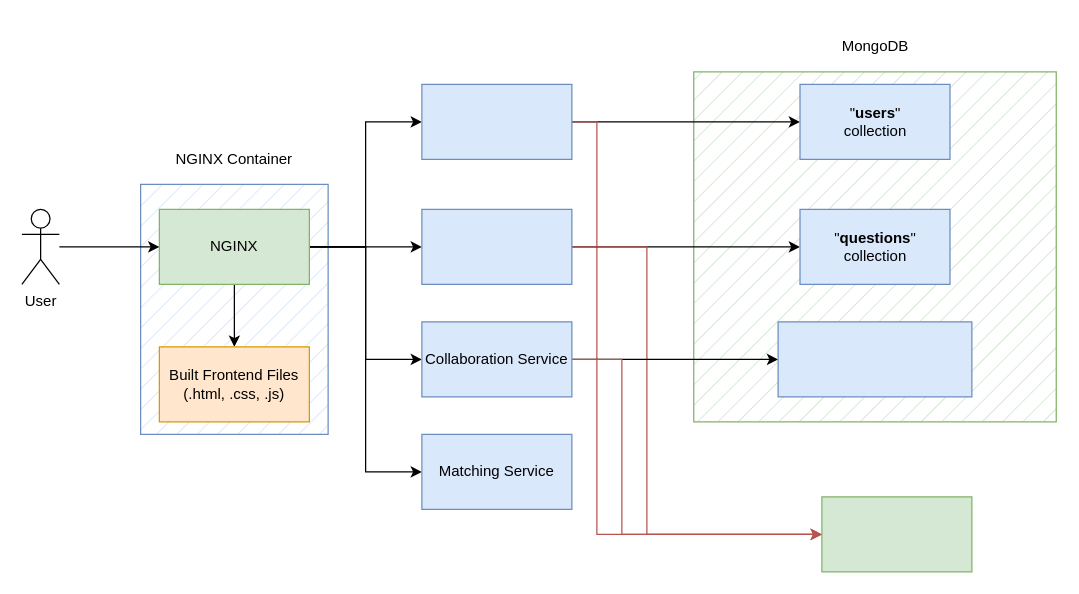
Image size: 1079x594. Some labels were removed from this diagram. Here are the shapes that lost their labels. From the top down, the centre of each, then its label:
pixel 496 121: User Service
pixel 496 246: Question Service
pixel 874 359: " collaboration_sessions " collection
pixel 896 534: Redis
